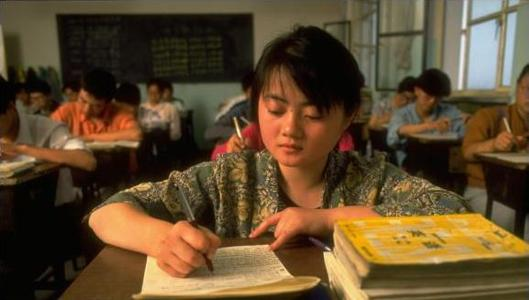person: (85, 26, 471, 279)
